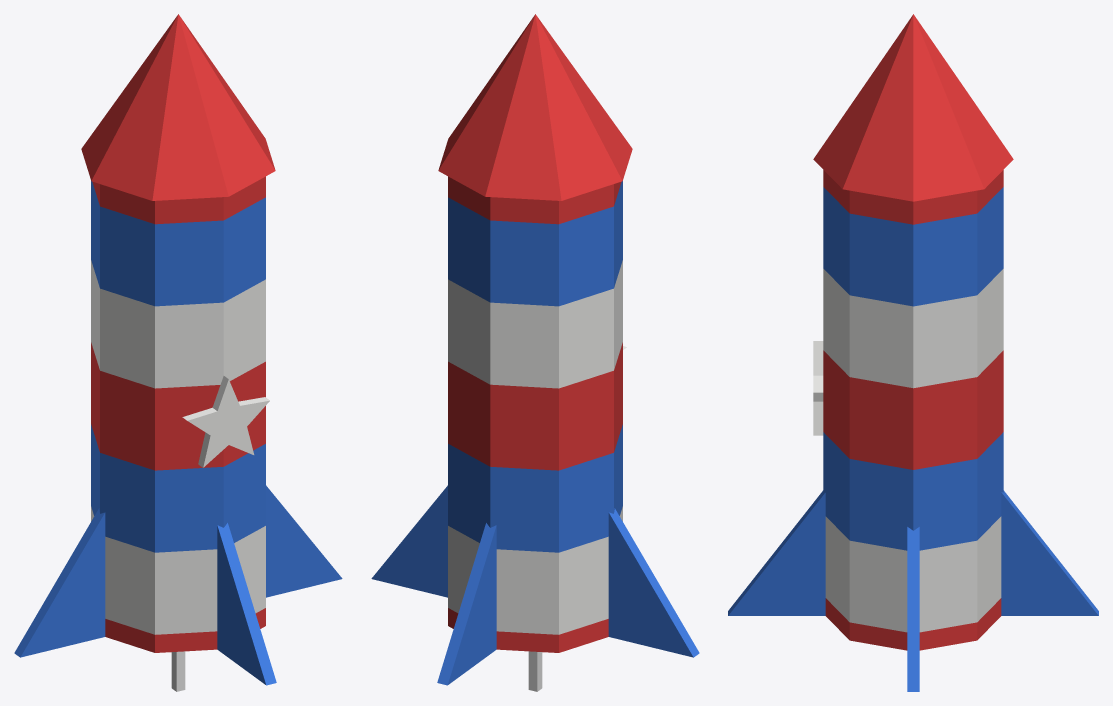
The model's file is BigFireworkRocket.fbx.
3 renders of one model, left to right at view 1: azimuth 30°, elevation 25°; view 2: azimuth 150°, elevation 25°; view 3: azimuth 270°, elevation 25°, orthographic.
Visible parts, largest first — view 1: BigFireworkRocket; view 2: BigFireworkRocket; view 3: BigFireworkRocket.
Part boxes in pixels (left/top/right/bottom): BigFireworkRocket: left=14, top=14, right=342, bottom=691; BigFireworkRocket: left=371, top=14, right=699, bottom=691; BigFireworkRocket: left=728, top=14, right=1098, bottom=691.
Size of the model in its own units: 3.7 by 7.4 by 3.7.
Materials: 1 (1 with a texture image).
